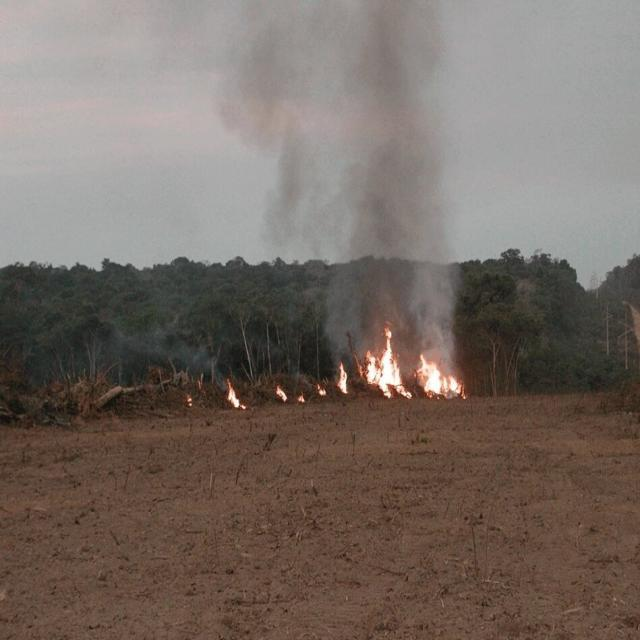Fire: (362, 327, 413, 399), (418, 352, 467, 400), (226, 376, 248, 414), (338, 363, 351, 398), (276, 386, 290, 402), (315, 384, 327, 397), (296, 393, 306, 402), (187, 394, 193, 404)
Smoke: (216, 0, 370, 395), (348, 0, 460, 375), (91, 328, 228, 390)
